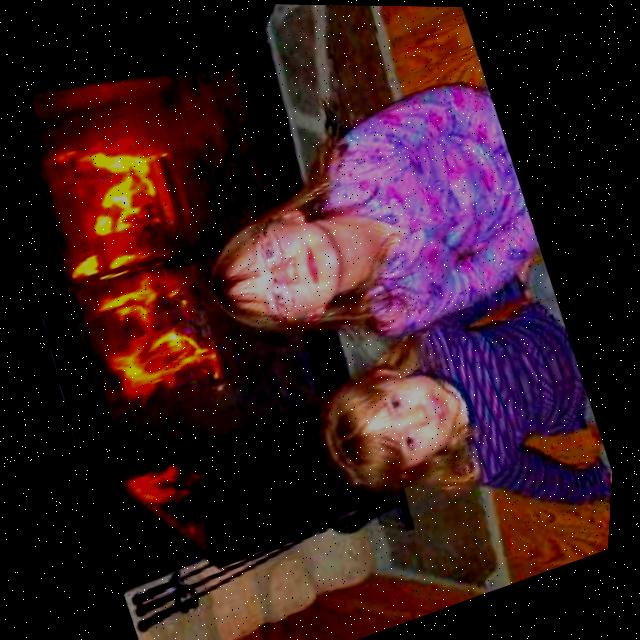Fire: (18, 113, 257, 430), (118, 450, 222, 542)
